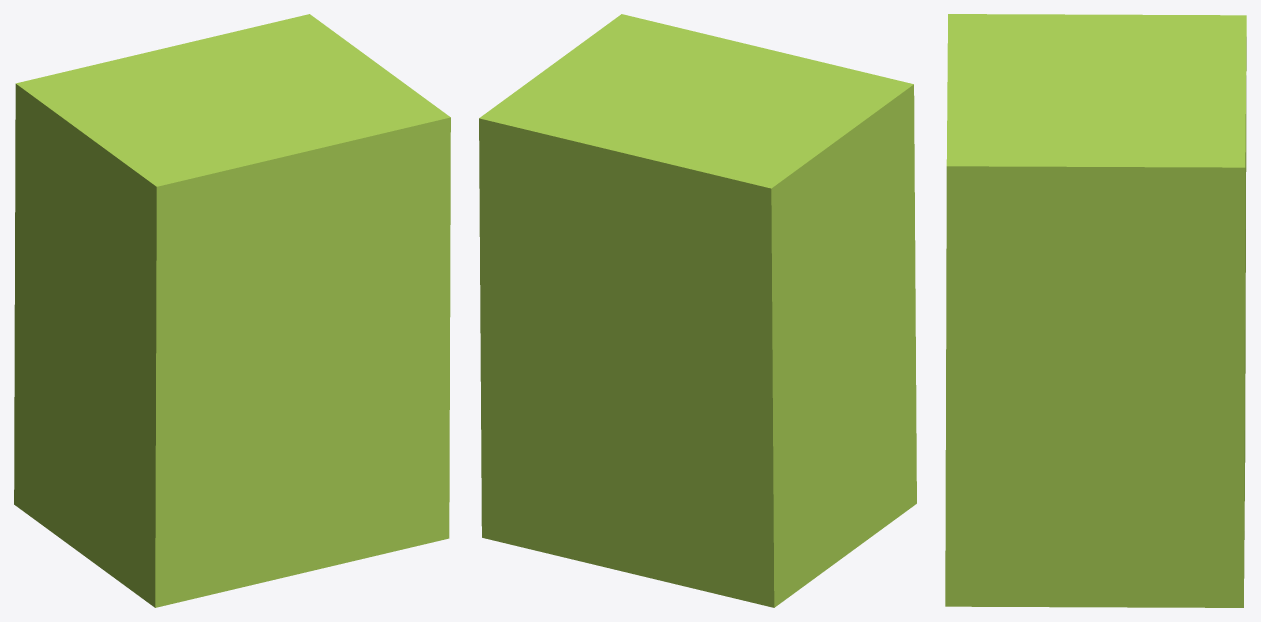
Rendered from niryo_Link_4_coll_2.dae.
3 views of the same model, side by side, from view 1: azimuth 30°, elevation 25°; view 2: azimuth 150°, elevation 25°; view 3: azimuth 270°, elevation 25° (orthographic). The views are drawn at different scales.
Visible parts, largest first — view 1: Node_000001B04DB52530; view 2: Node_000001B04DB52530; view 3: Node_000001B04DB52530.
Boxes of the visible parts, x1,y1,x2,y2 form: Node_000001B04DB52530: [14, 14, 450, 607]; Node_000001B04DB52530: [479, 14, 916, 607]; Node_000001B04DB52530: [945, 14, 1246, 607].
Size of the model in its own units: 0.0344 by 0.0468 by 0.0288.
